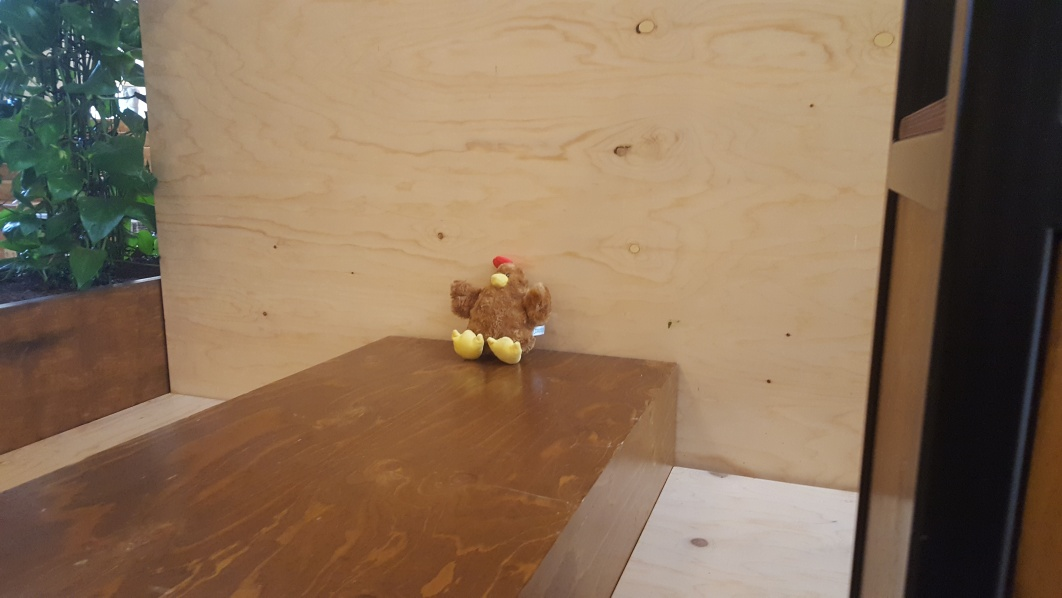chicken: (446, 254, 555, 361)
